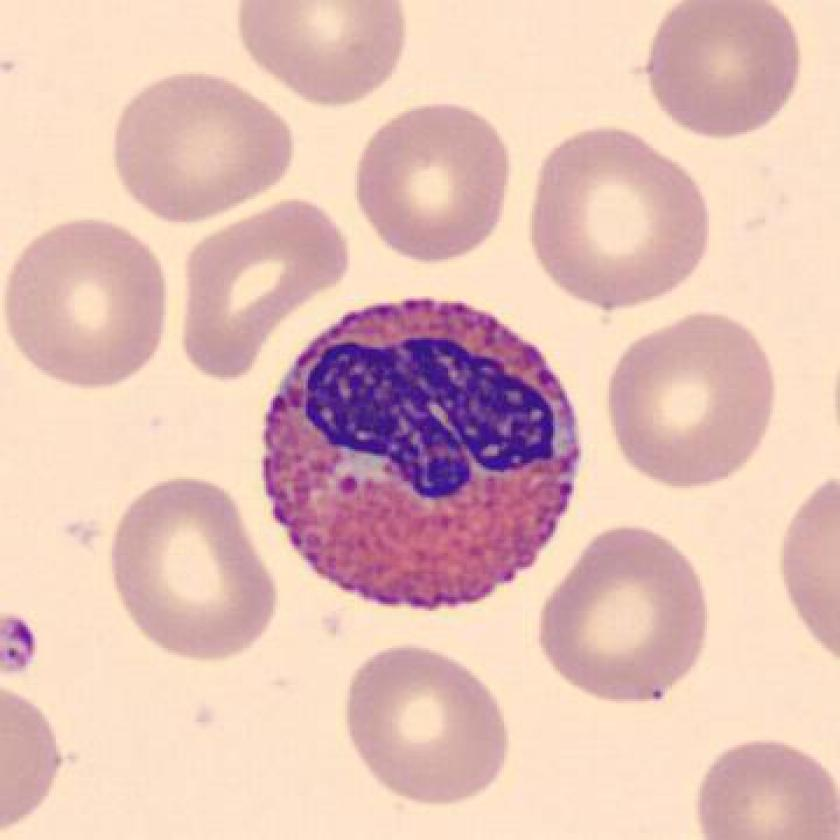eosinophil: (251, 281, 594, 621)
